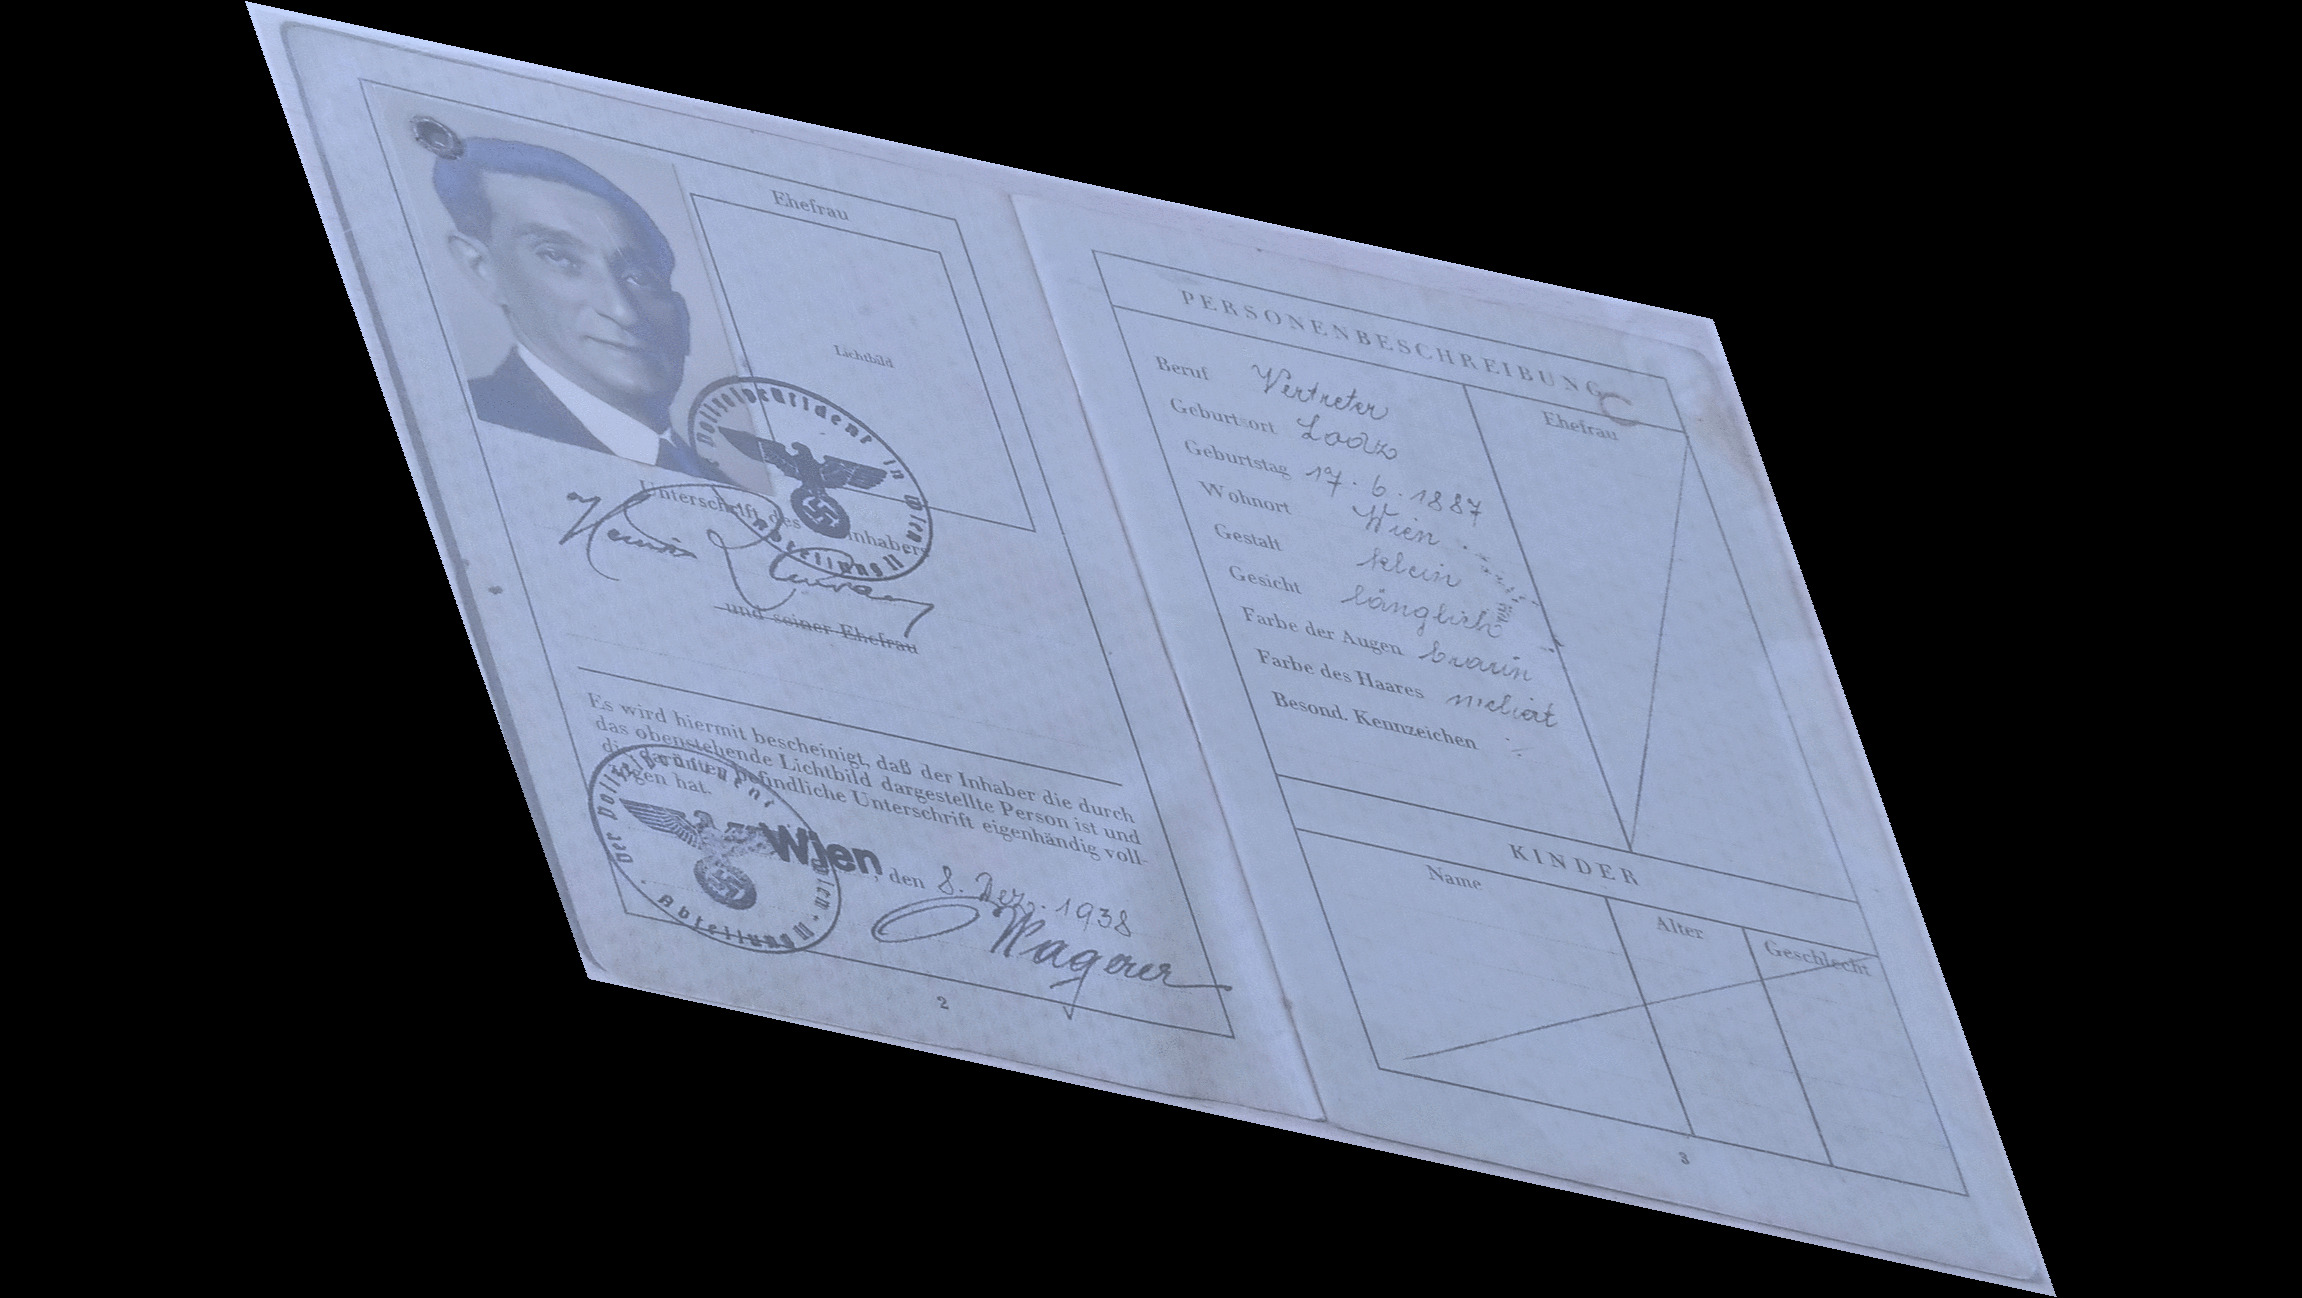face: (432, 136, 700, 417)
